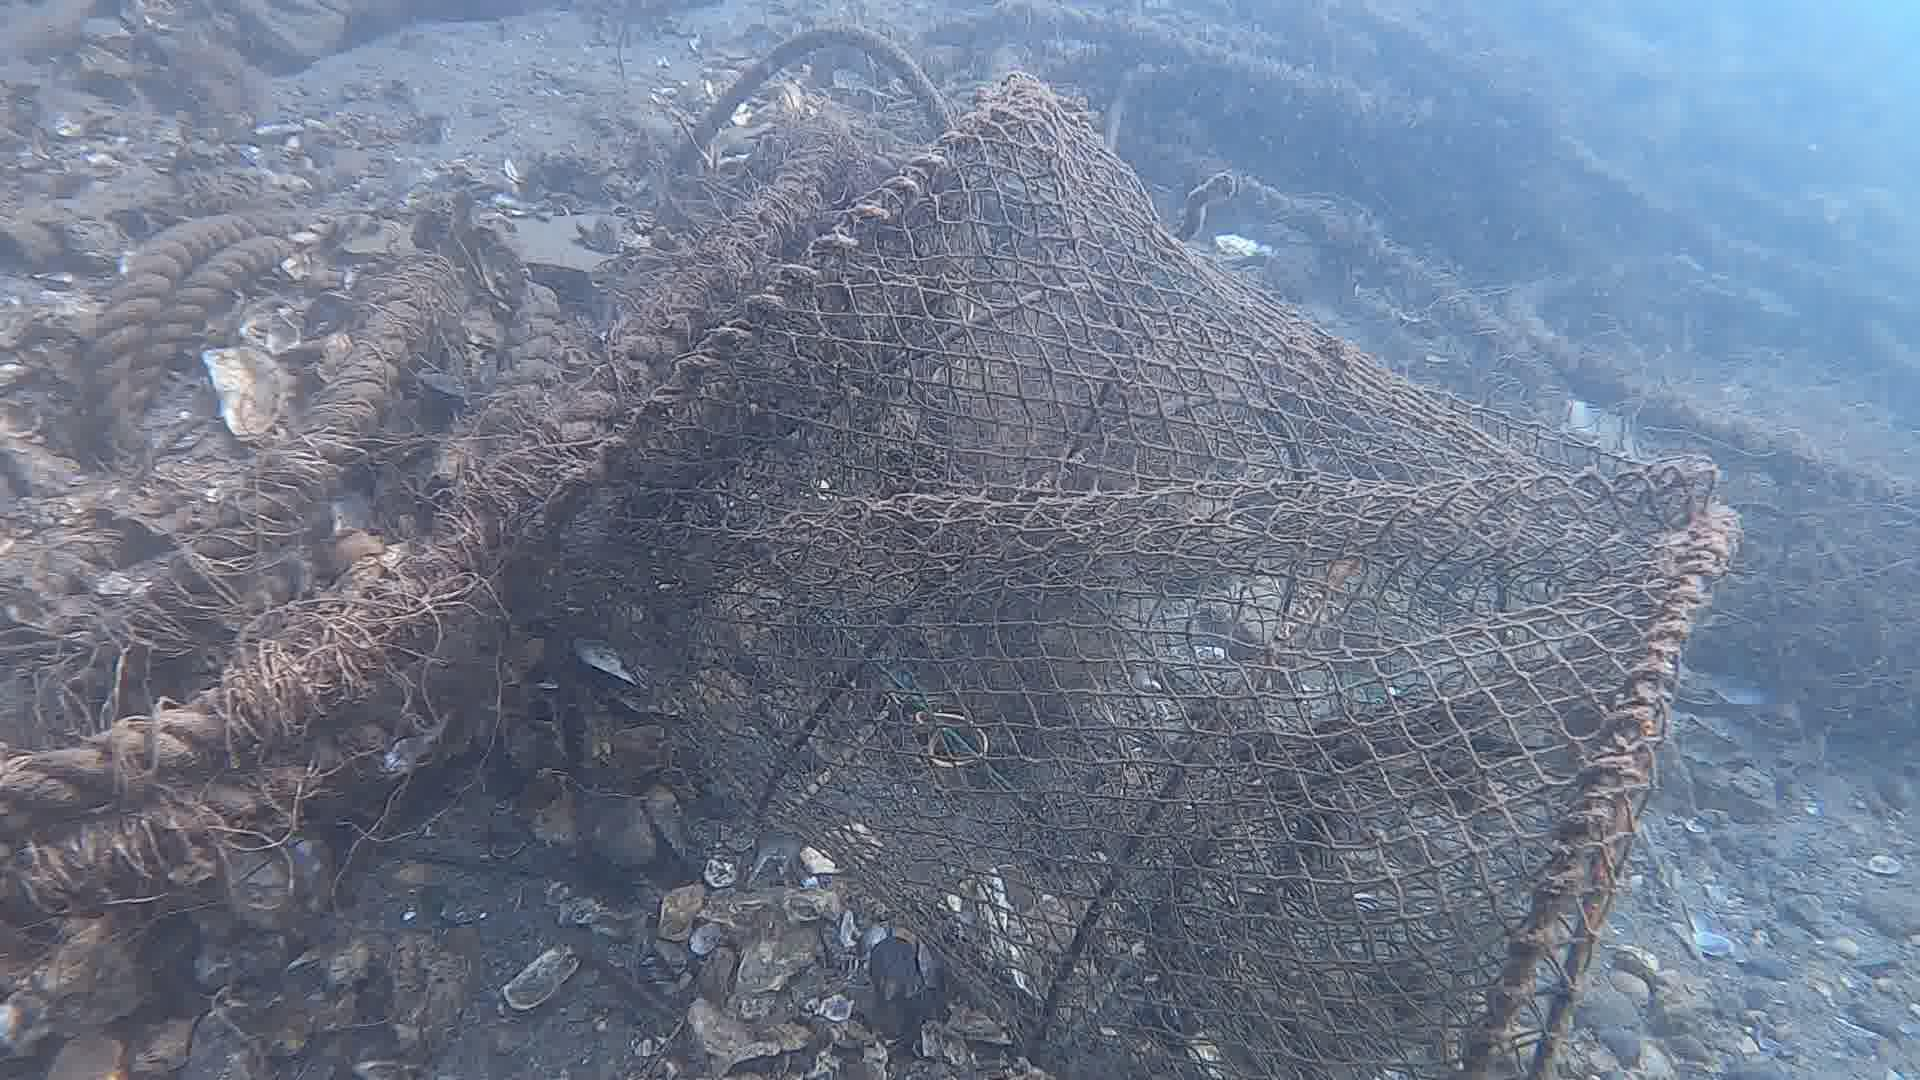bundle of ropes: (314, 269, 682, 436), (80, 208, 286, 431)
rope: (0, 698, 227, 829)
spring fish trap: (495, 69, 1737, 1080)
